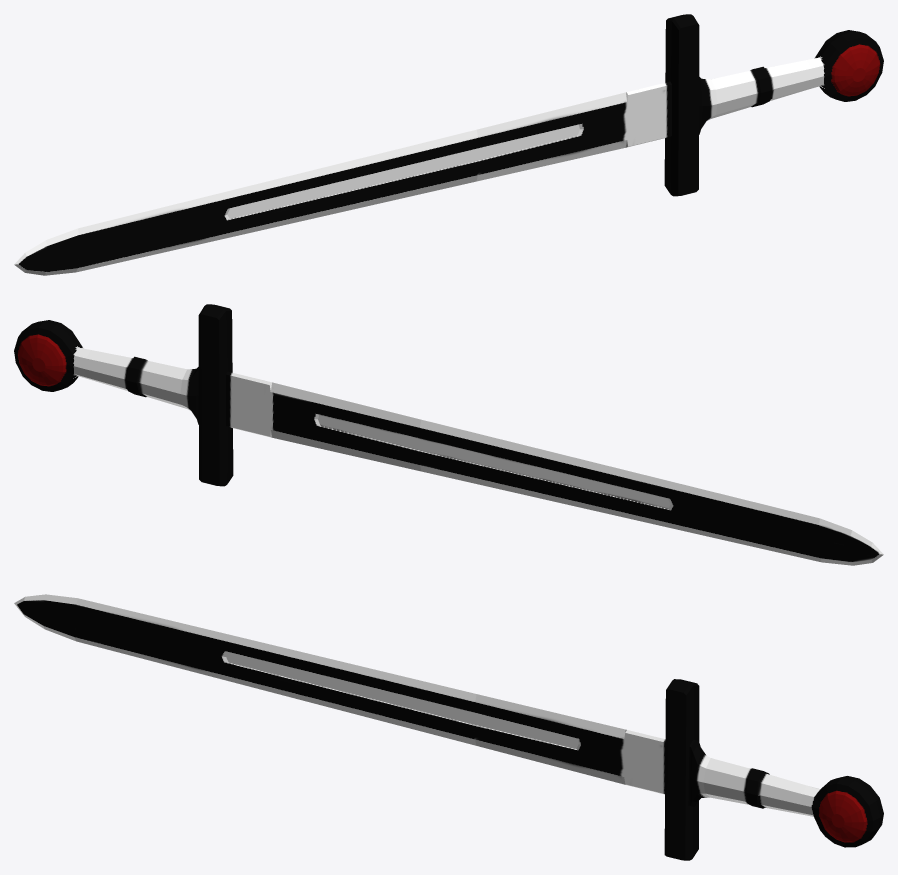
The model's file is swordmedievil.fbx.
3 renders of one model, top to bottom at view 1: azimuth 30°, elevation 25°; view 2: azimuth 150°, elevation 25°; view 3: azimuth 330°, elevation 25°, orthographic.
Visible parts, largest first — view 1: Swordlow; view 2: Swordlow; view 3: Swordlow.
Boxes of the visible parts, left/top/right/bottom form: Swordlow: left=14, top=14, right=883, bottom=275; Swordlow: left=14, top=304, right=883, bottom=565; Swordlow: left=14, top=594, right=883, bottom=860.
Bounding box in the file's own units: 1113 × 218 × 47.
